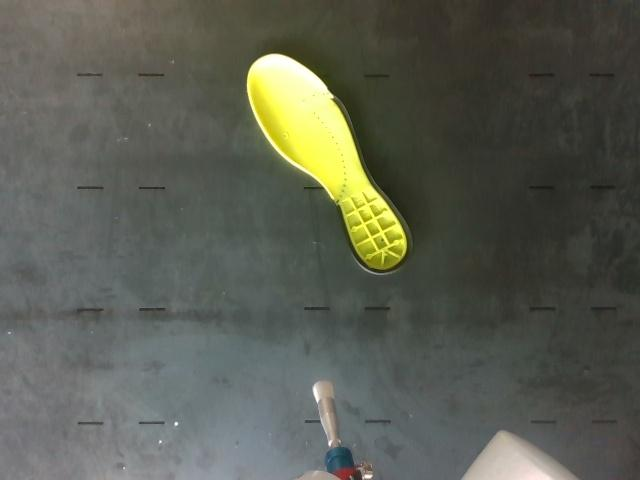shoes: (247, 54, 409, 273)
